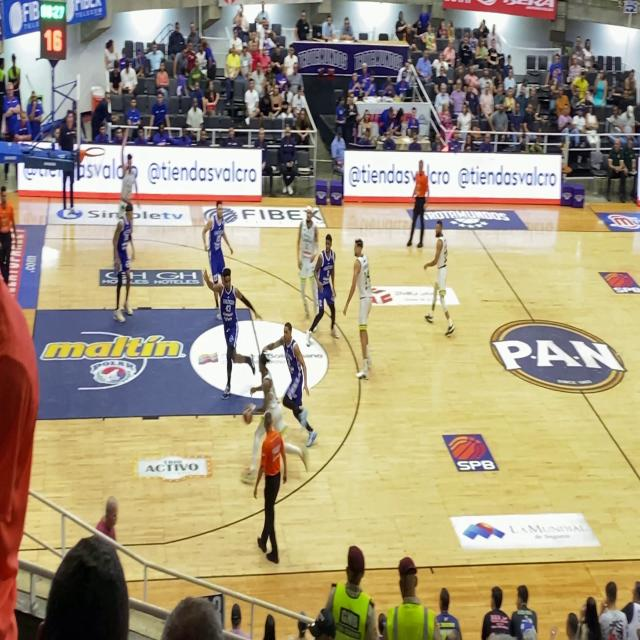Ball: (243, 405, 256, 425)
referee: (247, 397, 288, 564), (405, 156, 433, 260), (0, 176, 19, 277)
team1: (342, 215, 381, 397), (424, 217, 454, 343), (292, 202, 320, 324), (252, 350, 284, 428), (111, 120, 138, 203)
team2: (201, 258, 256, 401), (274, 313, 320, 452), (99, 202, 145, 339), (310, 231, 342, 346), (197, 188, 234, 273)
